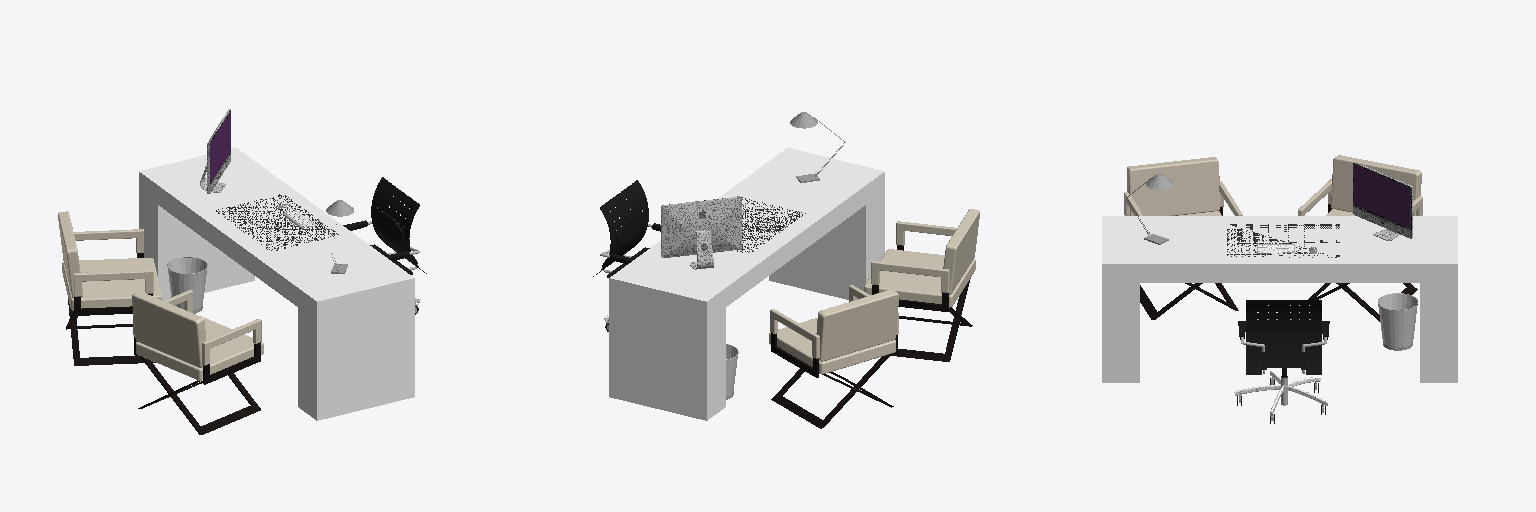
File: ceosuite.obj
The picture shows the model from 3 angles: view 1: azimuth 30°, elevation 25°; view 2: azimuth 150°, elevation 25°; view 3: azimuth 270°, elevation 25°; orthographic projection.
Parts seen in each view (by area): view 1: officer_desk_2, Poltrona_Frau_Aster-X_Armchair_ID239, Poltrona_Frau_Aster-X_Armchair_ID247, Poltrona_Frau_Aster-X_Armchair_ID273, bovenste_gedeelte, IKEA_Papierkorb_Dokument_ID299, officer_desk_2_ID1542, Poltrona_Frau_Aster-X_Armchair_ID261, group_3_ID157; view 2: officer_desk_2, Poltrona_Frau_Aster-X_Armchair_ID239, Poltrona_Frau_Aster-X_Armchair_ID247, group_3, Poltrona_Frau_Aster-X_Armchair_ID273, bovenste_gedeelte, Poltrona_Frau_Aster-X_Armchair_ID267, officer_desk_2_ID1542, group_2; view 3: officer_desk_2, Poltrona_Frau_Aster-X_Armchair_ID239, bovenste_gedeelte, group_3_ID157, IKEA_Papierkorb_Dokument_ID299, Poltrona_Frau_Aster-X_Armchair_ID273, group_3, frame_ID1292, officer_desk_2_ID1542.
Boxes of the visible parts, x1,y1,x2,y2 form: officer_desk_2: [139, 148, 414, 420]; Poltrona_Frau_Aster-X_Armchair_ID239: [58, 211, 261, 367]; Poltrona_Frau_Aster-X_Armchair_ID247: [62, 258, 263, 380]; Poltrona_Frau_Aster-X_Armchair_ID273: [66, 299, 260, 434]; bovenste_gedeelte: [343, 177, 426, 274]; IKEA_Papierkorb_Dokument_ID299: [168, 257, 206, 310]; officer_desk_2_ID1542: [216, 194, 338, 250]; Poltrona_Frau_Aster-X_Armchair_ID261: [74, 294, 260, 384]; group_3_ID157: [210, 112, 230, 183]; officer_desk_2: [609, 148, 884, 420]; Poltrona_Frau_Aster-X_Armchair_ID239: [770, 209, 979, 361]; Poltrona_Frau_Aster-X_Armchair_ID247: [769, 249, 975, 373]; group_3: [661, 196, 741, 257]; Poltrona_Frau_Aster-X_Armchair_ID273: [771, 278, 972, 428]; bovenste_gedeelte: [593, 180, 660, 277]; Poltrona_Frau_Aster-X_Armchair_ID267: [771, 285, 948, 377]; officer_desk_2_ID1542: [737, 196, 805, 252]; group_2: [690, 230, 713, 269]; officer_desk_2: [1102, 216, 1457, 382]; Poltrona_Frau_Aster-X_Armchair_ID239: [1124, 155, 1422, 215]; bovenste_gedeelte: [1238, 300, 1329, 374]; group_3_ID157: [1354, 165, 1409, 227]; IKEA_Papierkorb_Dokument_ID299: [1378, 294, 1417, 347]; Poltrona_Frau_Aster-X_Armchair_ID273: [1140, 283, 1417, 321]; group_3: [1353, 162, 1412, 238]; frame_ID1292: [1234, 371, 1327, 415]; officer_desk_2_ID1542: [1227, 224, 1339, 257].
Bounding box in the file's own units: 2.56 × 1.42 × 2.47.